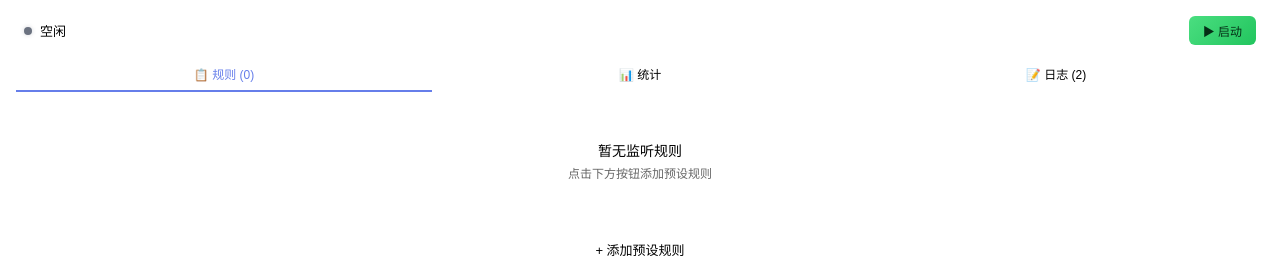
WatchPanel › 日志显示 › 有日志时应该显示日志列表
This screenshot has width=1280, height=273.
Click the button "📝 日志 (2)". click: (1056, 74)
box: [848,57,1264,92]
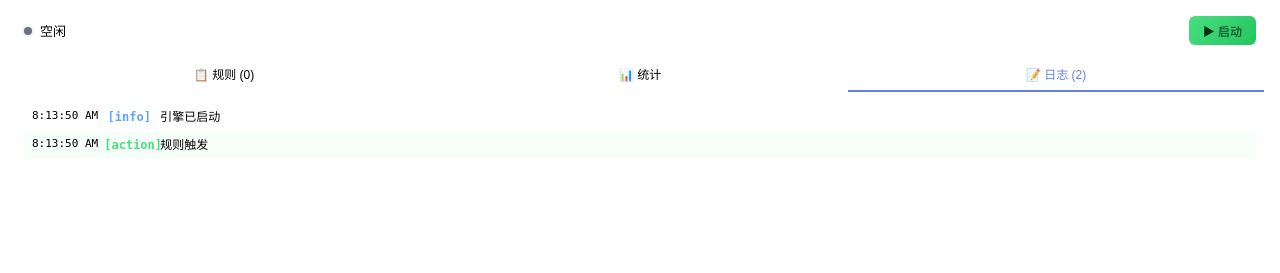
Check: the text "引擎已启动" is shown, box [160,108,220,126]
Check: the text "规则触发" is shown, box [160,136,208,154]
